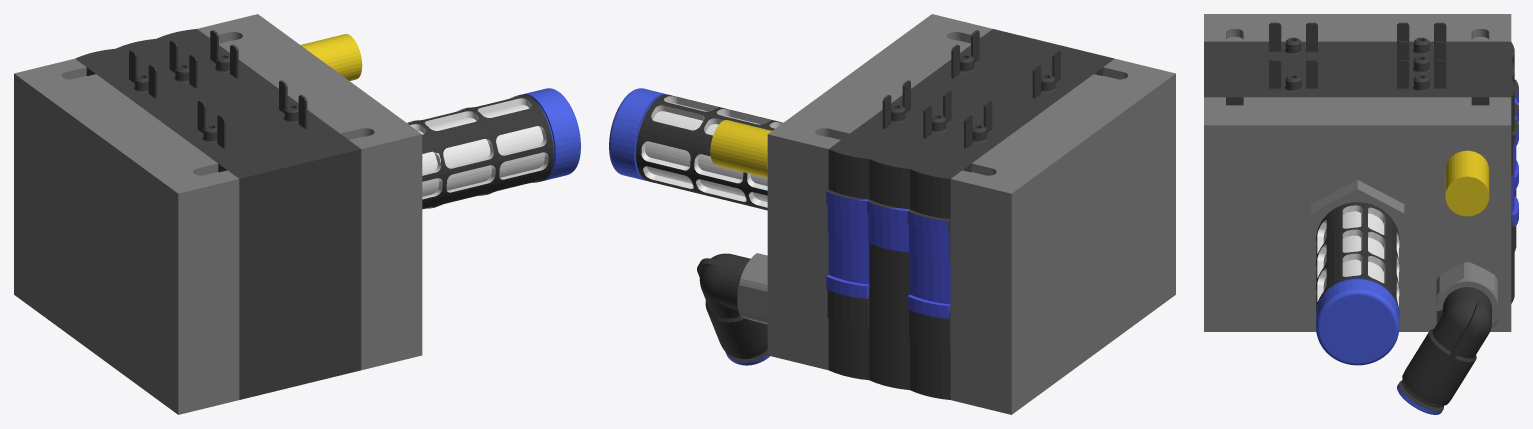
The model's file is valvulas con filtro pintada .fbx.
The picture shows the model from 3 angles, left to right: view 1: azimuth 30°, elevation 25°; view 2: azimuth 150°, elevation 25°; view 3: azimuth 270°, elevation 25°; orthographic projection. The views are drawn at different scales.
Visible parts, largest first — view 1: Ensamblaje1 - Ensamblaje4-2 maniful pieza 2-2, Ensamblaje1 - Ensamblaje4-2 maniful pieza 1-1, Ensamblaje1 - Ensamblaje4-2 185865 CPV10-M1H-VI70-2GLS-M7-2, Ensamblaje1 - Ensamblaje4-2 185865 CPV10-M1H-VI70-2GLS-M7-1, Ensamblaje1 - Ensamblaje4-2 161414 CPV10-M1H-5LS-M7-1, Ensamblaje1 - Ensamblaje4-2 2316_U_1_4-2; view 2: Ensamblaje1 - Ensamblaje4-2 maniful pieza 2-2, Ensamblaje1 - Ensamblaje4-2 maniful pieza 1-1, Ensamblaje1 - Ensamblaje4-2 185865 CPV10-M1H-VI70-2GLS-M7-2, Ensamblaje1 - Ensamblaje4-2 185865 CPV10-M1H-VI70-2GLS-M7-1, Ensamblaje1 - Ensamblaje4-2 161414 CPV10-M1H-5LS-M7-1, Ensamblaje1 - Ensamblaje4-2 2316_U_1_4-2, Ensamblaje1 - Ensamblaje4-2 186286 QSRL-G1_8-6-1; view 3: Ensamblaje1 - Ensamblaje4-2 maniful pieza 1-1, Ensamblaje1 - Ensamblaje4-2 2316_U_1_4-2, Ensamblaje1 - Ensamblaje4-2 186286 QSRL-G1_8-6-1, Ensamblaje1 - Ensamblaje4-2 185865 CPV10-M1H-VI70-2GLS-M7-1, Ensamblaje1 - Ensamblaje4-2 maniful pieza 2-2, Ensamblaje1 - Ensamblaje4-2 185865 CPV10-M1H-VI70-2GLS-M7-2, Ensamblaje1 - Ensamblaje4-2 161414 CPV10-M1H-5LS-M7-1.
Boxes of the visible parts, x1,y1,x2,y2 form: Ensamblaje1 - Ensamblaje4-2 maniful pieza 2-2: (14,58,239,414); Ensamblaje1 - Ensamblaje4-2 maniful pieza 1-1: (197,14,422,370); Ensamblaje1 - Ensamblaje4-2 185865 CPV10-M1H-VI70-2GLS-M7-2: (75,48,279,399); Ensamblaje1 - Ensamblaje4-2 185865 CPV10-M1H-VI70-2GLS-M7-1: (156,29,361,379); Ensamblaje1 - Ensamblaje4-2 161414 CPV10-M1H-5LS-M7-1: (116,39,320,389); Ensamblaje1 - Ensamblaje4-2 2316_U_1_4-2: (407,88,580,209); Ensamblaje1 - Ensamblaje4-2 maniful pieza 2-2: (950,58,1175,414); Ensamblaje1 - Ensamblaje4-2 maniful pieza 1-1: (710,14,992,370); Ensamblaje1 - Ensamblaje4-2 185865 CPV10-M1H-VI70-2GLS-M7-2: (907,49,1114,399); Ensamblaje1 - Ensamblaje4-2 185865 CPV10-M1H-VI70-2GLS-M7-1: (826,29,1033,380); Ensamblaje1 - Ensamblaje4-2 161414 CPV10-M1H-5LS-M7-1: (867,39,1073,389); Ensamblaje1 - Ensamblaje4-2 2316_U_1_4-2: (609,88,782,210); Ensamblaje1 - Ensamblaje4-2 186286 QSRL-G1_8-6-1: (697,253,769,365); Ensamblaje1 - Ensamblaje4-2 maniful pieza 1-1: (1204,97,1511,331); Ensamblaje1 - Ensamblaje4-2 2316_U_1_4-2: (1316,202,1399,365); Ensamblaje1 - Ensamblaje4-2 186286 QSRL-G1_8-6-1: (1397,262,1498,414); Ensamblaje1 - Ensamblaje4-2 185865 CPV10-M1H-VI70-2GLS-M7-1: (1204,60,1518,303); Ensamblaje1 - Ensamblaje4-2 maniful pieza 2-2: (1204,14,1511,41); Ensamblaje1 - Ensamblaje4-2 185865 CPV10-M1H-VI70-2GLS-M7-2: (1204,22,1518,196); Ensamblaje1 - Ensamblaje4-2 161414 CPV10-M1H-5LS-M7-1: (1204,41,1518,121).
Size of the model in its own units: 1142 by 713 by 718.
